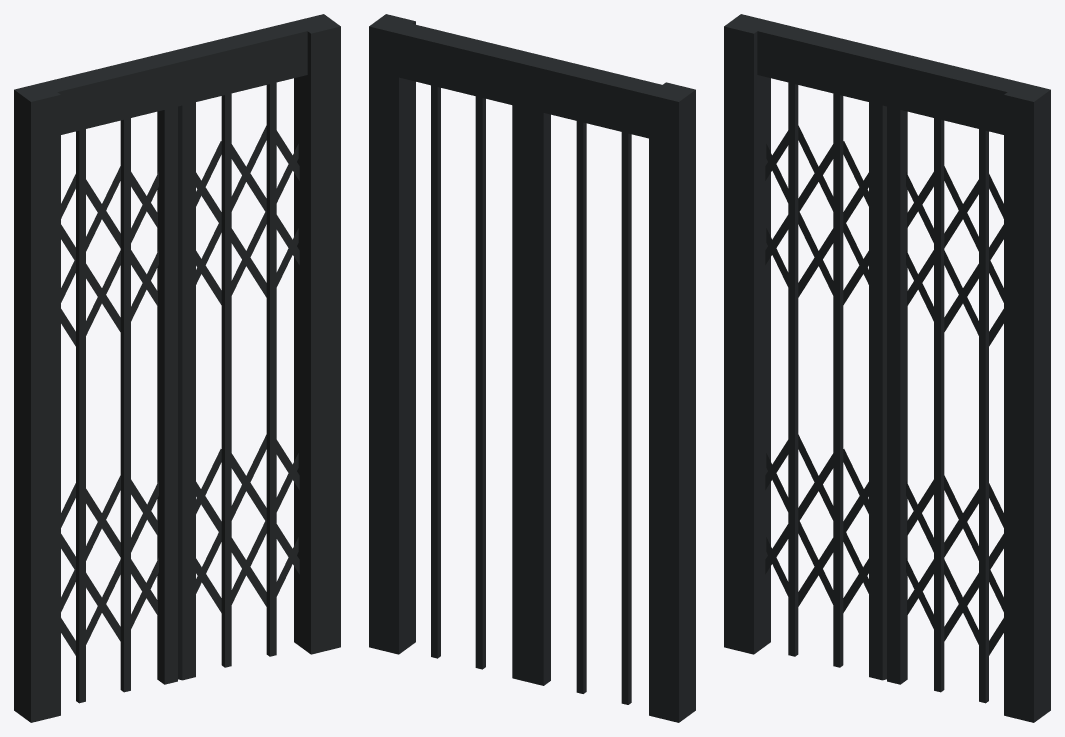
The model's file is SM_Bld_Door_Cage_03.glb.
3 renders of one model, left to right at view 1: azimuth 30°, elevation 25°; view 2: azimuth 150°, elevation 25°; view 3: azimuth 330°, elevation 25°, orthographic.
Parts seen in each view (by area): view 1: SM_Bld_Door_Cage_03; view 2: SM_Bld_Door_Cage_03; view 3: SM_Bld_Door_Cage_03.
Part boxes in pixels (bbox=[...]): SM_Bld_Door_Cage_03: bbox=[14, 14, 340, 722]; SM_Bld_Door_Cage_03: bbox=[369, 14, 695, 722]; SM_Bld_Door_Cage_03: bbox=[724, 14, 1050, 722].
Size of the model in its own units: 1.25 by 2.39 by 0.1186.
1 material, 1 textured.
